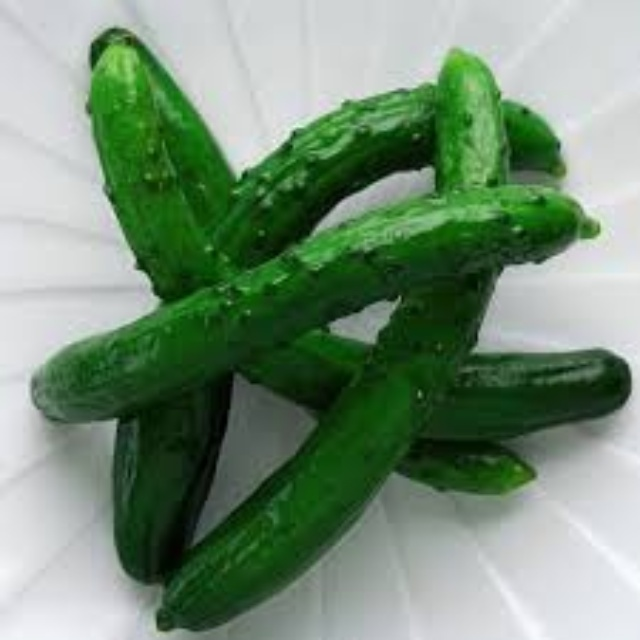dua_leo: (23, 182, 607, 427)
